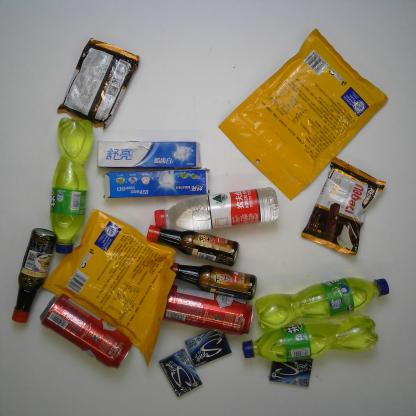Alcohol: (34, 291, 136, 371), (160, 282, 256, 338)
Dessert: (50, 34, 146, 134), (298, 153, 388, 257)
Dried Fruit: (213, 25, 394, 203), (41, 206, 179, 368)
Drink: (254, 273, 392, 334), (240, 310, 383, 364), (47, 115, 97, 257), (148, 182, 286, 233)
Gum: (155, 346, 205, 401), (181, 328, 236, 370), (265, 354, 314, 392)
Personal Hygiene: (98, 166, 214, 203), (94, 137, 204, 173)
Seasoner: (5, 224, 61, 326), (143, 221, 242, 268), (169, 259, 260, 303)
